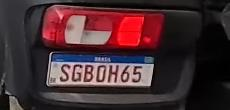Placa_mercosul_carro: (46, 52, 154, 88)
